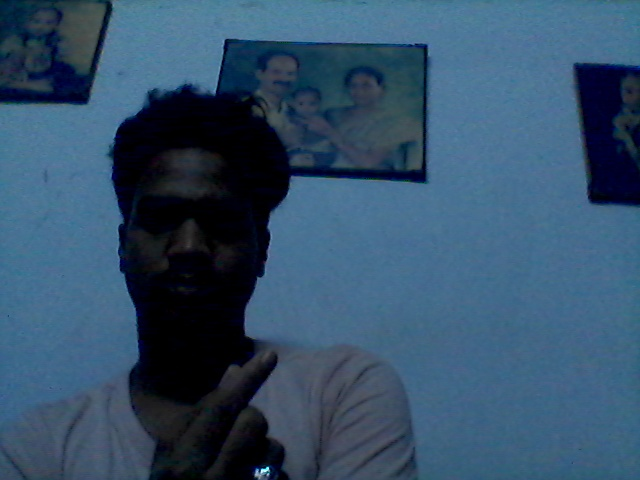Excuse Me: (145, 343, 315, 480)
